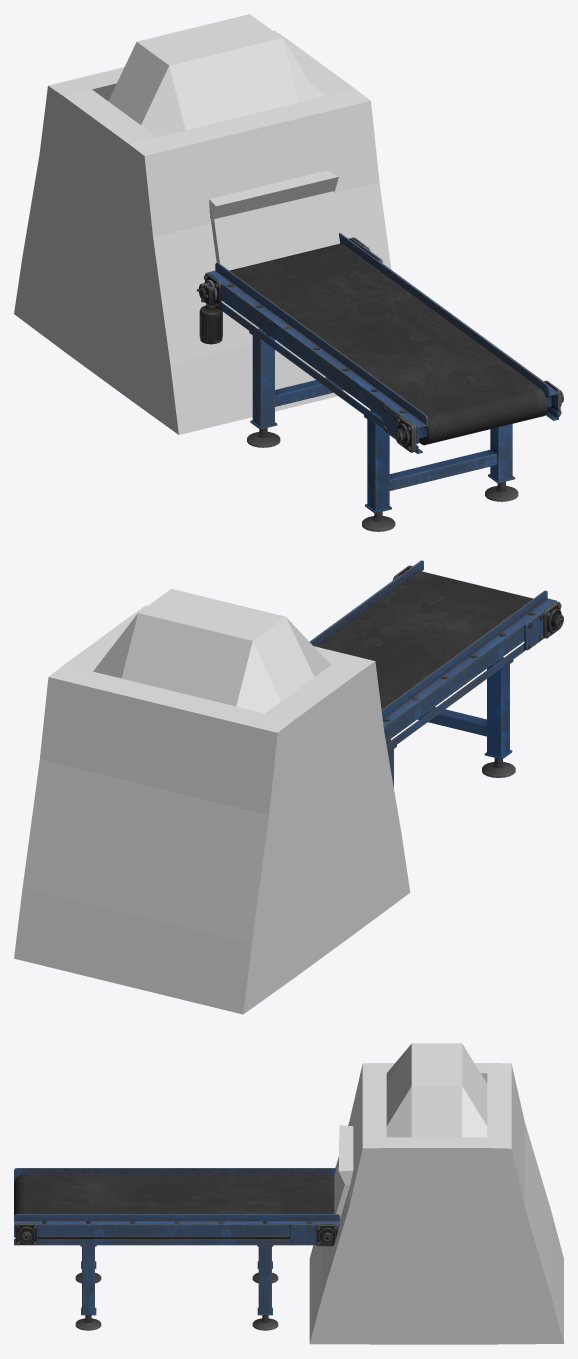
Rendered from ConveyorNew.fbx.
The picture shows the model from 3 angles, top to bottom: view 1: azimuth 30°, elevation 25°; view 2: azimuth 150°, elevation 25°; view 3: azimuth 270°, elevation 25°; orthographic projection. The views are drawn at different scales.
Parts seen in each view (by area): view 1: Cube, Conveyor01Belt, Conveyor01Frame01, Conveyor01Legs, Cube.001, Cube.002, Conveyor01Frame02; view 2: Cube, Conveyor01Belt, Conveyor01Frame01, Conveyor01Legs, Conveyor01Frame02; view 3: Cube, Conveyor01Belt, Conveyor01Frame02, Conveyor01Legs, Conveyor01Frame01, Cube.002, Conveyor01Frame, Cube.001.
Part boxes in pixels (x1=…): Cube: x1=14, y1=14, x2=391, y2=434; Conveyor01Belt: x1=229, y1=243, x2=547, y2=444; Conveyor01Frame01: x1=197, y1=262, x2=427, y2=453; Conveyor01Legs: x1=247, y1=328, x2=518, y2=531; Cube.001: x1=211, y1=191, x2=339, y2=270; Cube.002: x1=209, y1=170, x2=338, y2=220; Conveyor01Frame02: x1=339, y1=233, x2=563, y2=420; Cube: x1=14, y1=589, x2=410, y2=1014; Conveyor01Belt: x1=316, y1=571, x2=532, y2=709; Conveyor01Frame01: x1=381, y1=590, x2=563, y2=750; Conveyor01Legs: x1=386, y1=657, x2=515, y2=787; Conveyor01Frame02: x1=309, y1=560, x2=423, y2=646; Cube: x1=309, y1=1043, x2=563, y2=1344; Conveyor01Belt: x1=14, y1=1174, x2=334, y2=1215; Conveyor01Frame02: x1=14, y1=1214, x2=339, y2=1246; Conveyor01Legs: x1=75, y1=1245, x2=278, y2=1330; Conveyor01Frame01: x1=14, y1=1168, x2=336, y2=1182; Cube.002: x1=338, y1=1125, x2=353, y2=1185; Conveyor01Frame: x1=38, y1=1237, x2=290, y2=1238; Cube.001: x1=334, y1=1160, x2=349, y2=1218.
Size of the model in its own units: 124 by 161 by 338.
